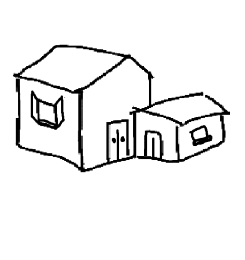door: (102, 116, 132, 168), (139, 127, 165, 163)
open_window: (30, 91, 66, 129), (189, 124, 213, 146)
roof: (13, 44, 154, 94), (140, 92, 230, 127)
wall: (15, 76, 84, 174), (130, 107, 181, 163)
